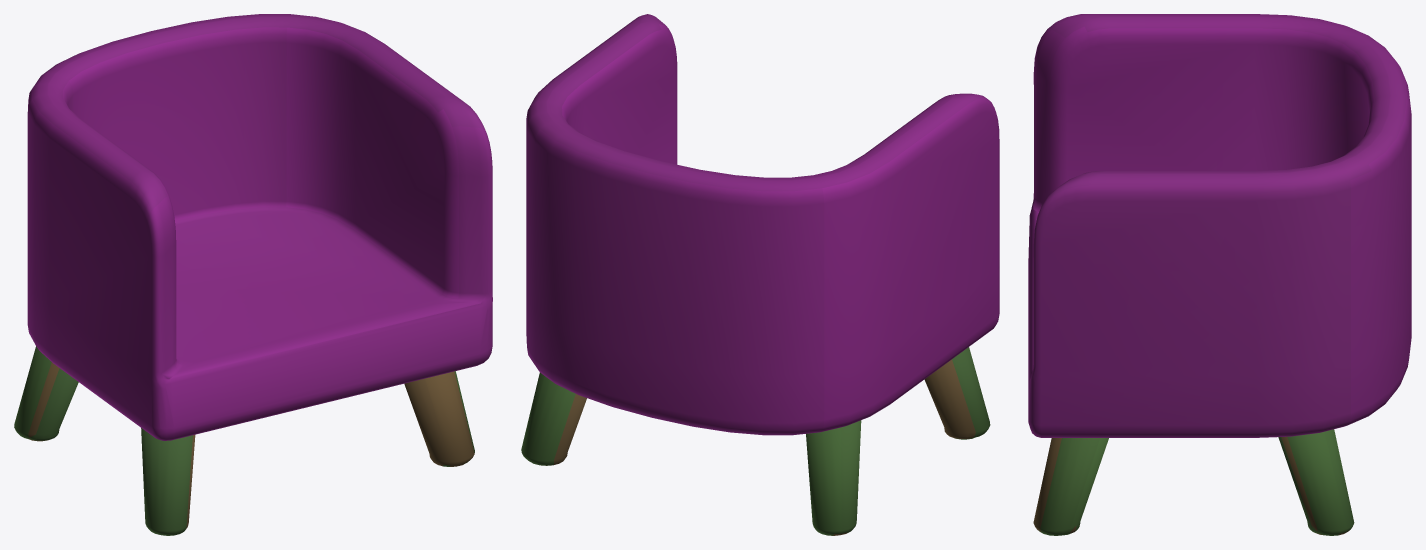
File: LoungeChair_Green.fbx
The picture shows the model from 3 angles, left to right: view 1: azimuth 30°, elevation 25°; view 2: azimuth 150°, elevation 25°; view 3: azimuth 270°, elevation 25°; orthographic projection. The views are drawn at different scales.
Parts seen in each view (by area): view 1: loungeChair_.001; view 2: loungeChair_.001; view 3: loungeChair_.001.
Boxes of the visible parts, left/top/right/bottom form: loungeChair_.001: left=14, top=14, right=492, bottom=535; loungeChair_.001: left=521, top=14, right=999, bottom=535; loungeChair_.001: left=1028, top=14, right=1411, bottom=535.
Bounding box in the file's own units: 83.22 × 81.02 × 77.12.
